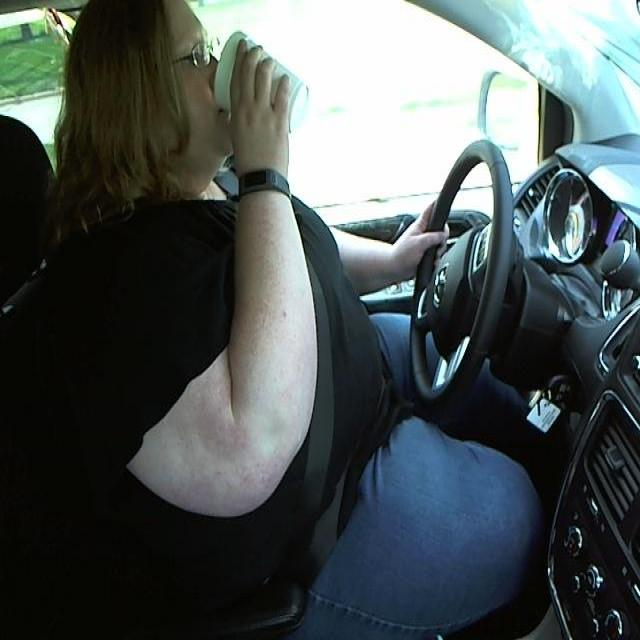drinking: (211, 24, 311, 142)
